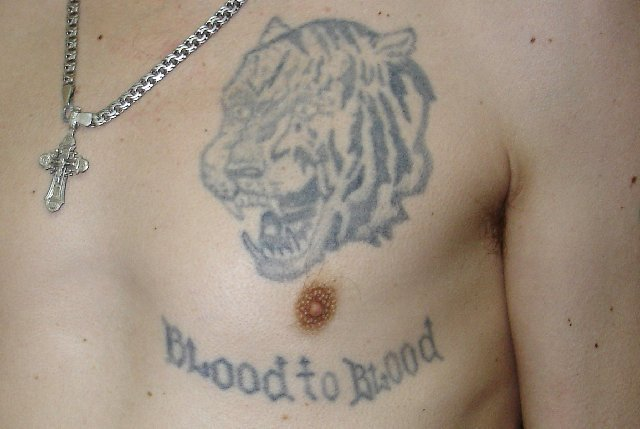tatu3_bukva: (162, 316, 446, 410)
tatu5_tigr: (198, 13, 441, 281)
